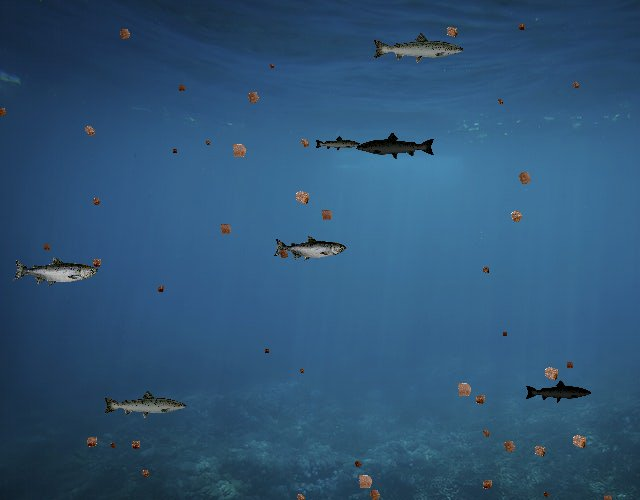Fish: (372, 31, 466, 65), (102, 389, 188, 420), (12, 256, 98, 287), (355, 131, 436, 160), (274, 236, 347, 262), (525, 380, 593, 404), (315, 136, 362, 153)
Pellet: (512, 165, 538, 191), (504, 204, 529, 229), (78, 120, 100, 142), (478, 263, 492, 277), (514, 20, 528, 34), (540, 488, 553, 500), (202, 137, 212, 148)
